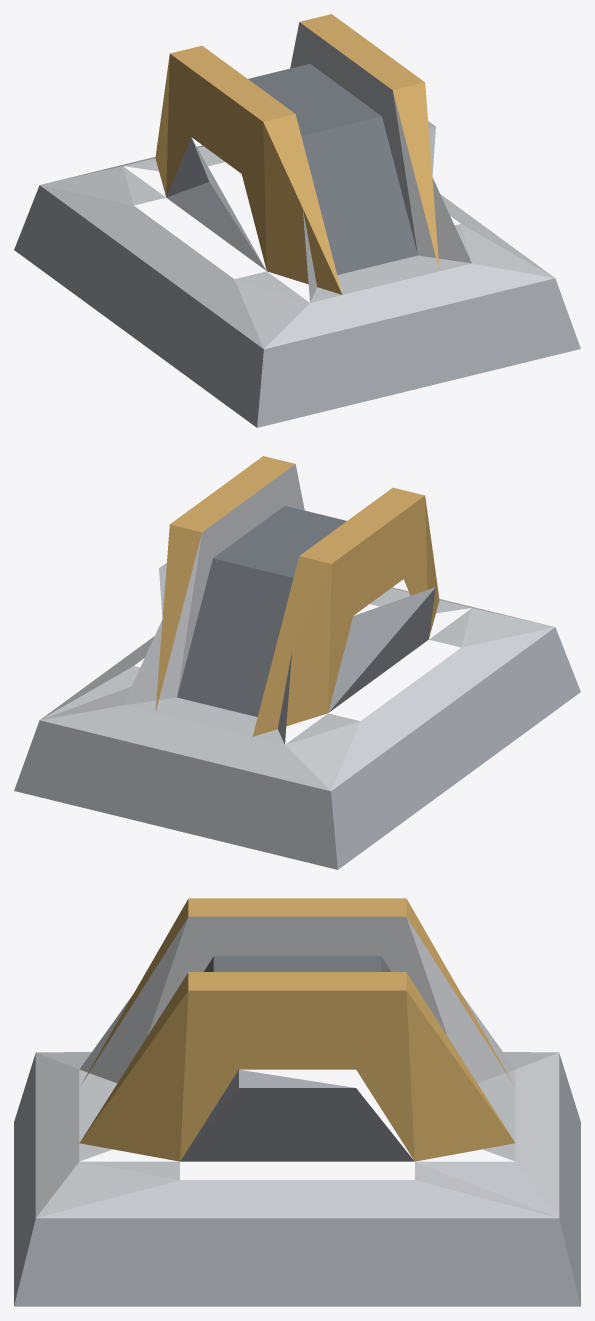
Rendered from machine_generatorLarge.lod.glb.
3 views of the same model, one above another, from view 1: azimuth 30°, elevation 25°; view 2: azimuth 150°, elevation 25°; view 3: azimuth 270°, elevation 25° (orthographic). The views are drawn at different scales.
Visible parts, largest first — view 1: machine_generatorLarge; view 2: machine_generatorLarge; view 3: machine_generatorLarge.
Part boxes in pixels (x1,y1,x2,y2): machine_generatorLarge: (14,14,580,427); machine_generatorLarge: (14,456,580,869); machine_generatorLarge: (14,898,580,1306).
Size of the model in its own units: 1 by 0.6831 by 1.3.
